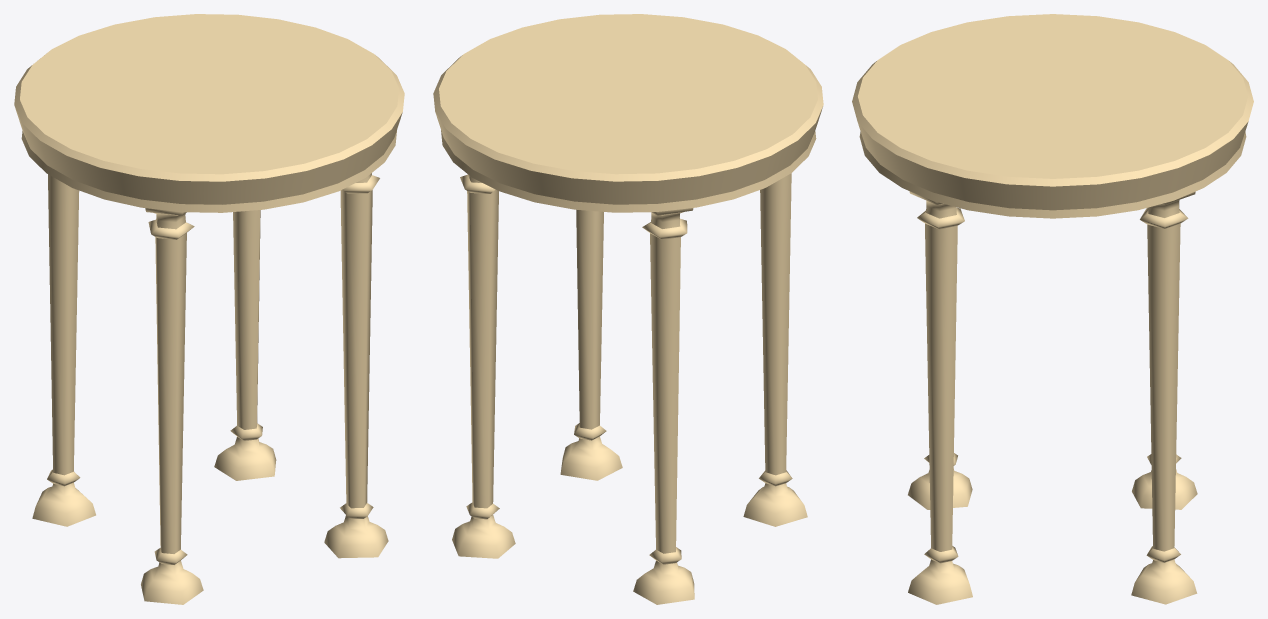
The model's file is Table.FBX.
The picture shows the model from 3 angles, left to right: view 1: azimuth 30°, elevation 25°; view 2: azimuth 150°, elevation 25°; view 3: azimuth 270°, elevation 25°; orthographic projection. The views are drawn at different scales.
Parts seen in each view (by area): view 1: Table; view 2: Table; view 3: Table.
Part boxes in pixels (bbox=[...]): Table: bbox=[14, 14, 404, 604]; Table: bbox=[433, 14, 823, 604]; Table: bbox=[852, 14, 1253, 604].
Bounding box in the file's own units: 27.56 × 33.82 × 27.56.
